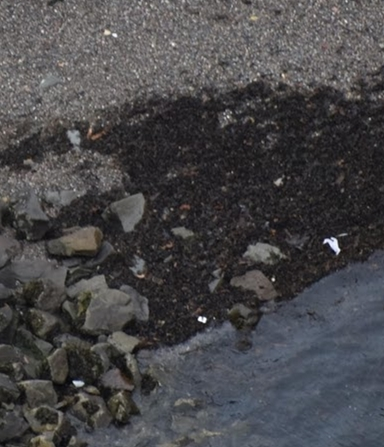white_in_green: (304, 218, 357, 267), (178, 292, 231, 341), (52, 356, 105, 405)
